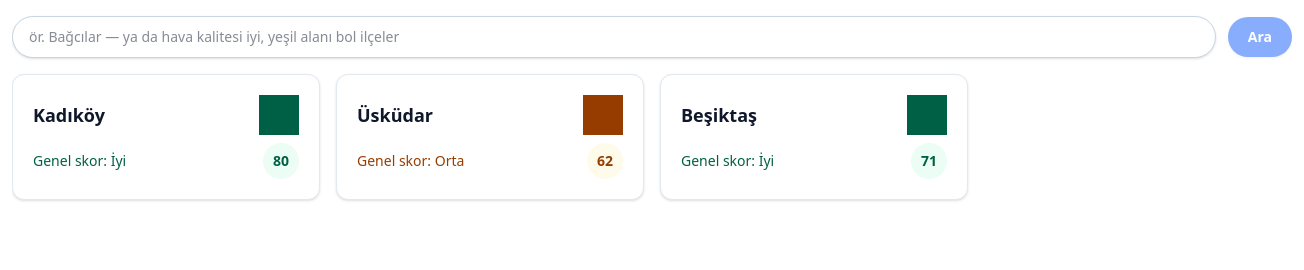
it: NeighborhoodSearchableList › restores the full list when the query is cleared
Replace the text in the field named "İlçe ara" with "Kadı" at (614, 37), box [12,16,1216,58]
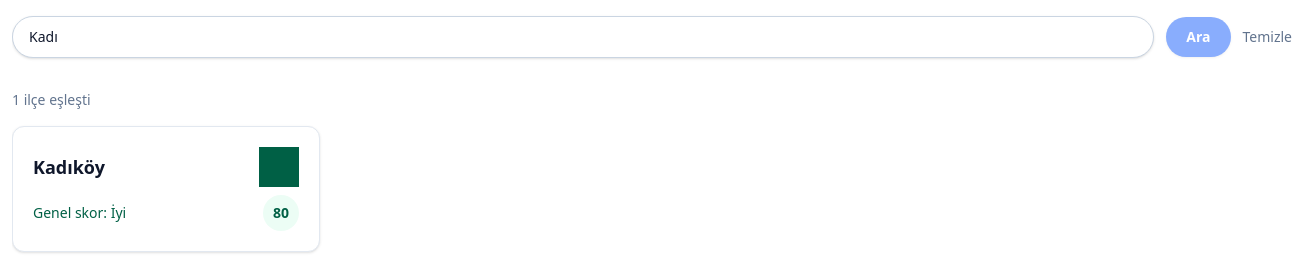
Clear the field named "İlçe ara" at (583, 37), box [12,16,1154,58]
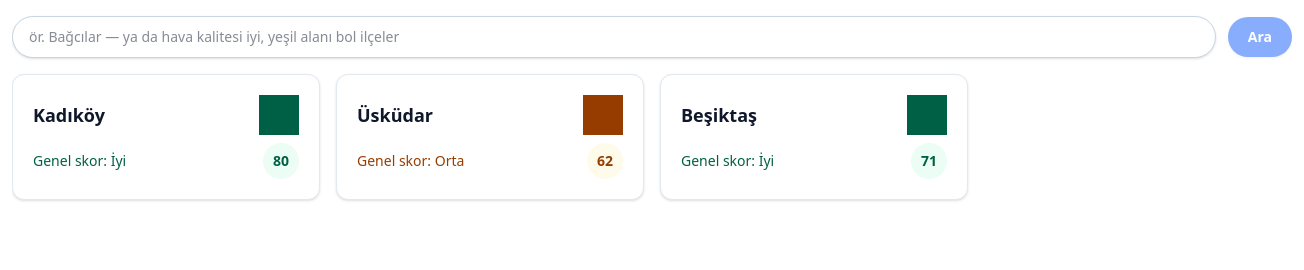
Check: the text "Kadıköy" is shown, box [33,101,105,129]
Check: the text "Üsküdar" is shown, box [357,101,433,129]
Check: the text "Beşiktaş" is shown, box [681,101,757,129]
